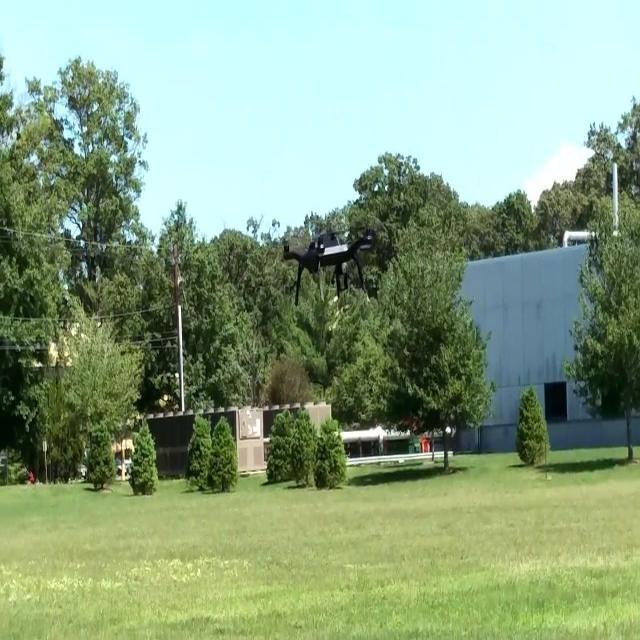drone: (284, 228, 376, 304)
